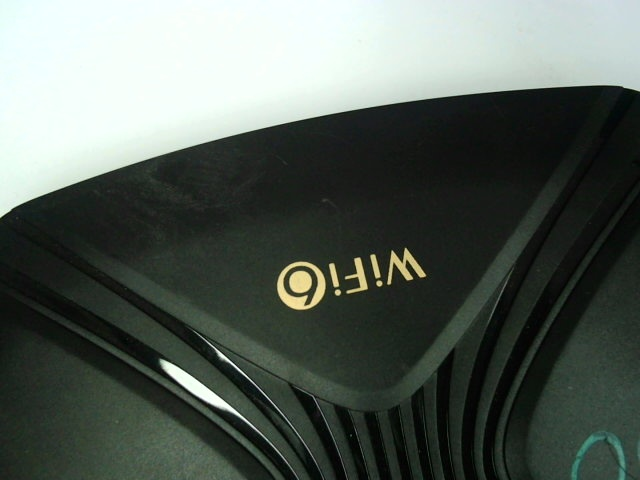AK_ZTEWIFI6Black: (255, 237, 433, 313)
